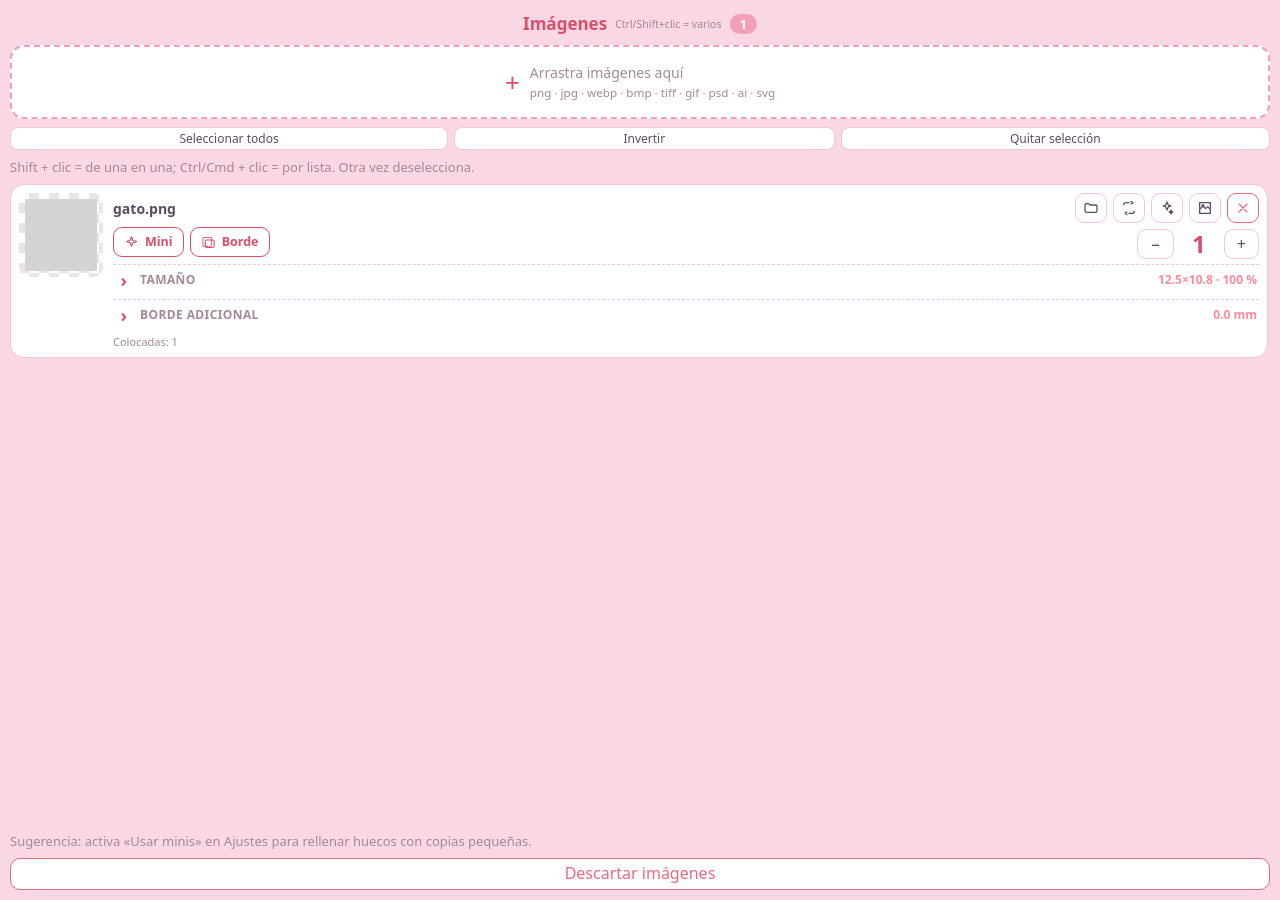
Test: Panel de archivos › muestra el tamaño en mm y permite cambiar la escala
Check: the text with test id "tamano-a1" shows "12.5×10.8", box x1=1158 y1=274 x2=1257 y2=286
Click the button with test id "fold-tamano-a1" at (168, 280), box x1=113 y1=265 x2=1259 y2=295
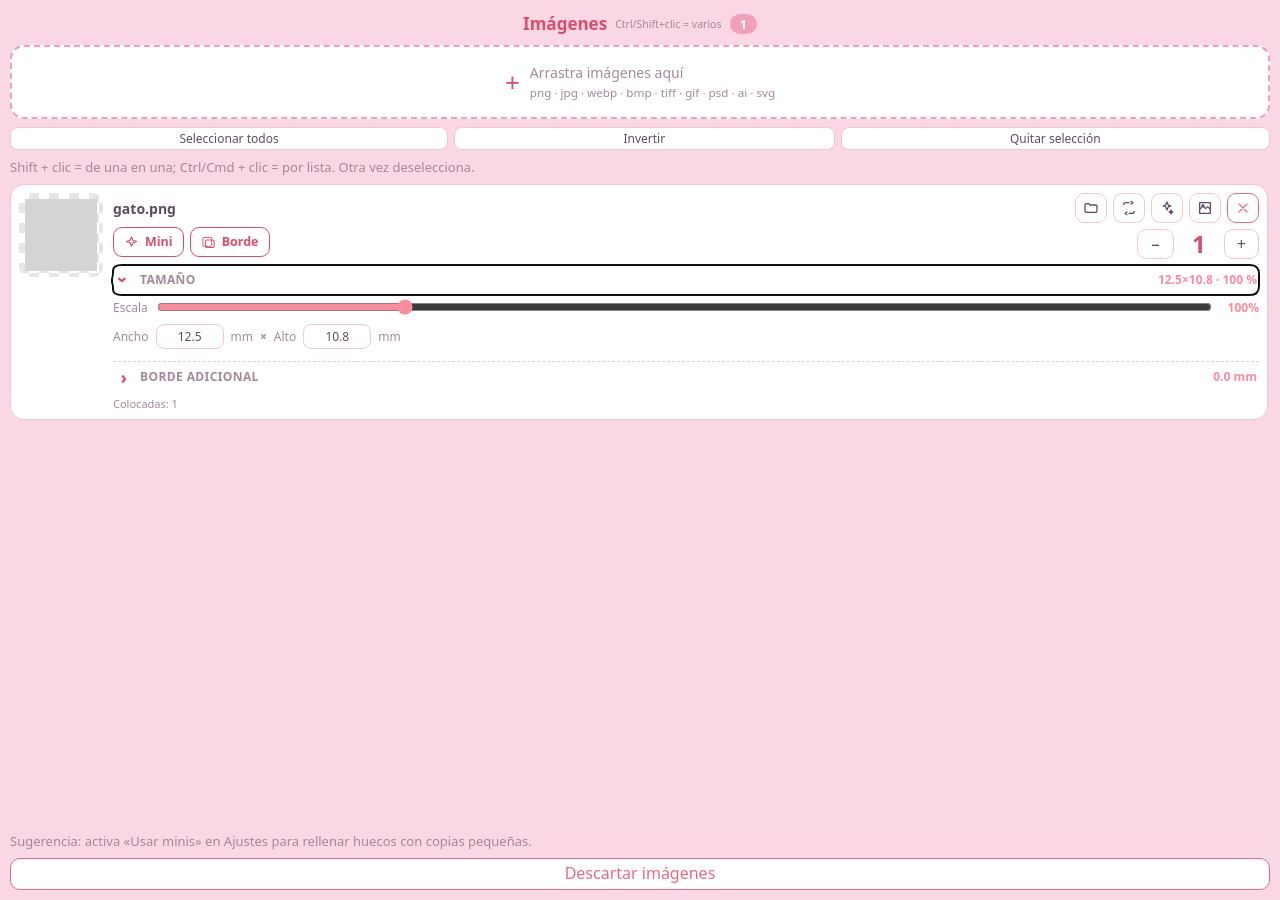
Set the slider with test id "escala-a1" to "200" at (671, 307), box x1=157 y1=299 x2=1212 y2=315
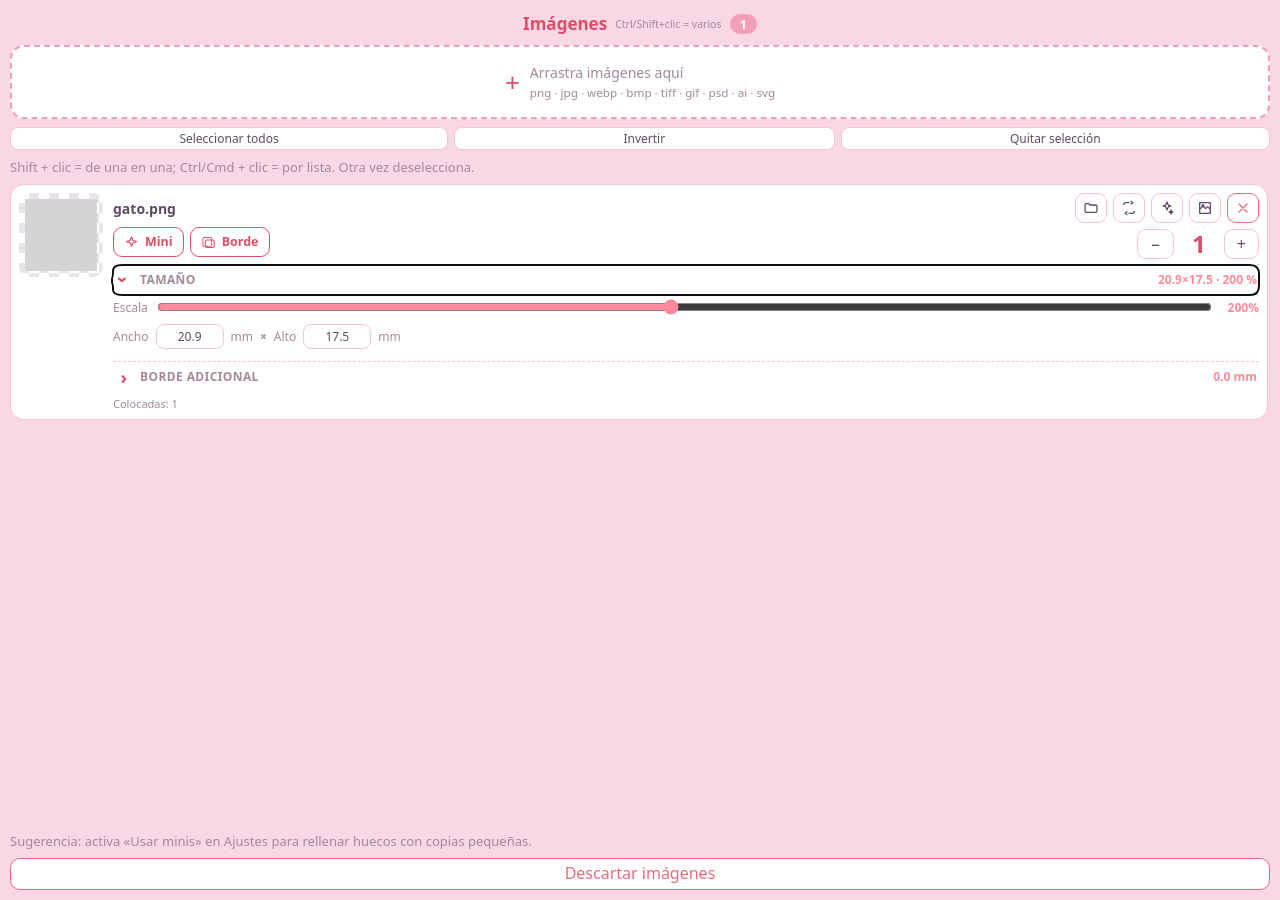
Check: the text with test id "tamano-a1" shows "20.9×17.5", box x1=1158 y1=274 x2=1257 y2=286
